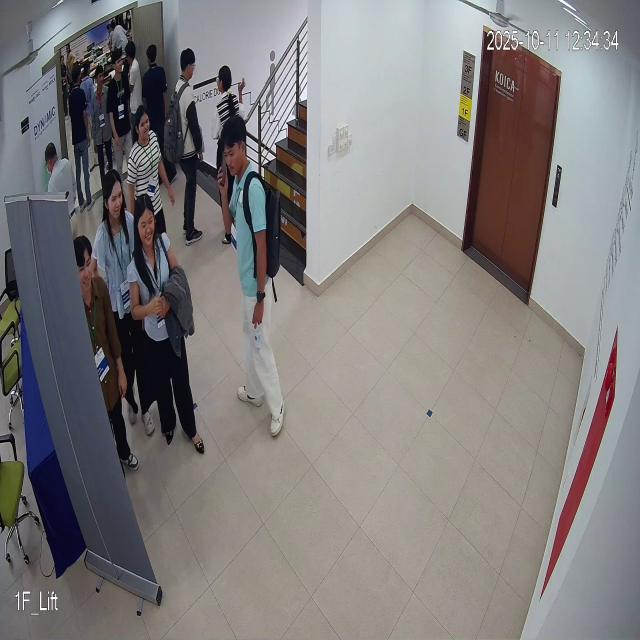face: (222, 108, 250, 187), (130, 189, 163, 249), (98, 170, 127, 223), (134, 103, 151, 143)
